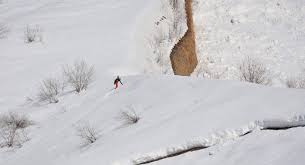skier: (110, 72, 127, 93)
